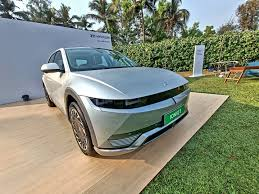Honda Ioniq: (32, 43, 199, 166)
